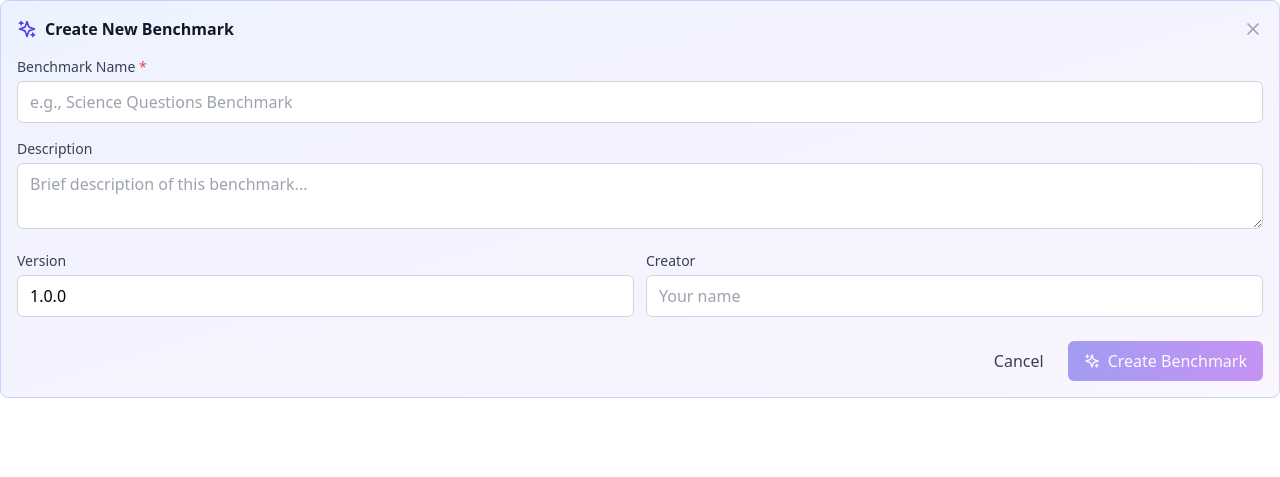
Scenario: CreateBenchmarkForm › handles API error gracefully
Type "Test Benchmark" into the field labelled "Benchmark Name *" at (640, 102), box [17,81,1263,123]
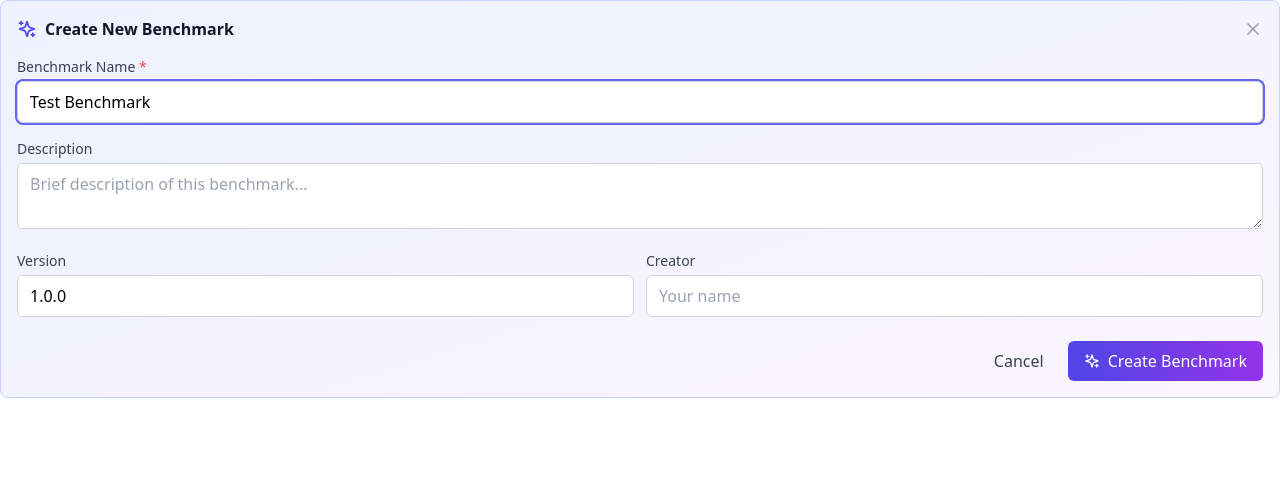
Click the button "Create Benchmark" at (1165, 361), box [1068,341,1263,381]
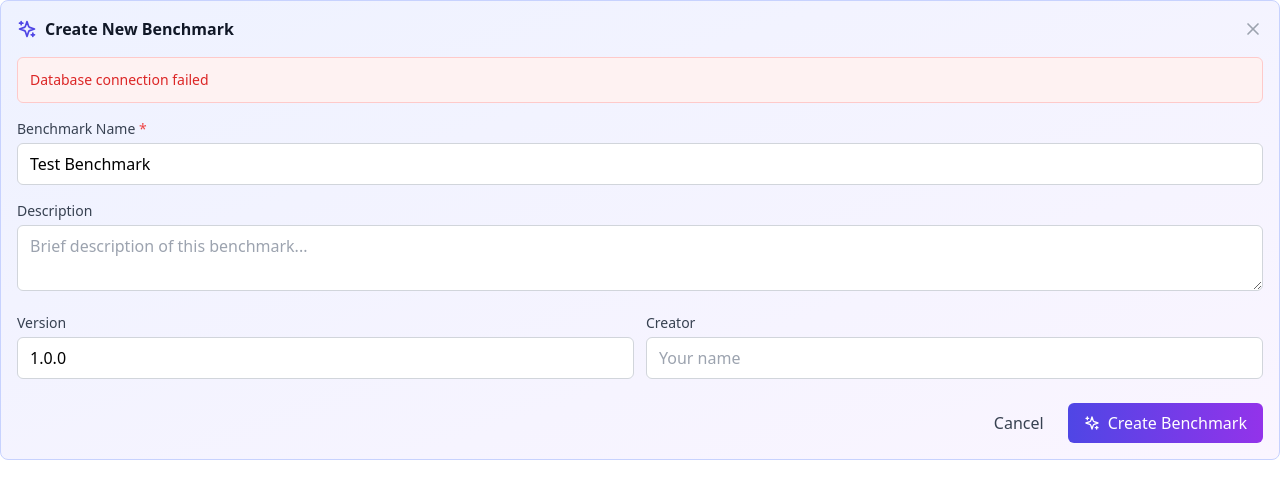
Check: the text "Database connection failed" is shown, box [17,57,1263,103]
